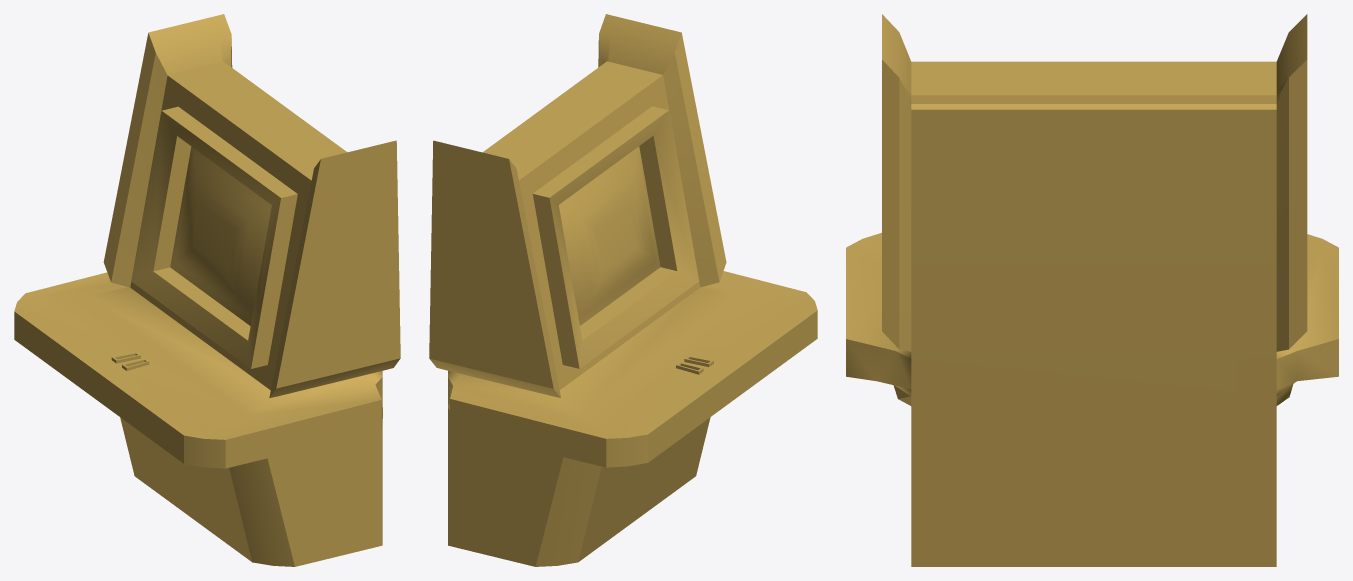
Rendered from ArcadeM3.fbx.
3 views of the same model, side by side, from view 1: azimuth 30°, elevation 25°; view 2: azimuth 150°, elevation 25°; view 3: azimuth 270°, elevation 25° (orthographic). The views are drawn at different scales.
Visible parts, largest first — view 1: ArcadeM3; view 2: ArcadeM3; view 3: ArcadeM3.
Boxes of the visible parts, box(x1,y1,x2,y2) form: ArcadeM3: box(14, 14, 400, 566); ArcadeM3: box(429, 14, 817, 566); ArcadeM3: box(846, 14, 1338, 566).
Size of the model in its own units: 47.58 by 86.91 by 76.3.
